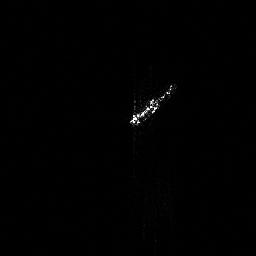ship: (127, 82, 176, 127)
